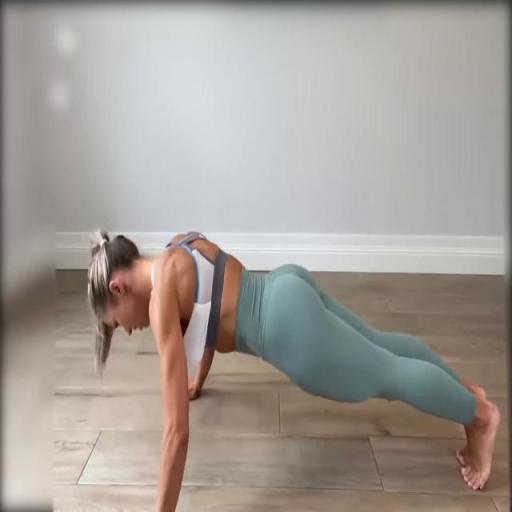Normal_Dips: (10, 211, 512, 512)
